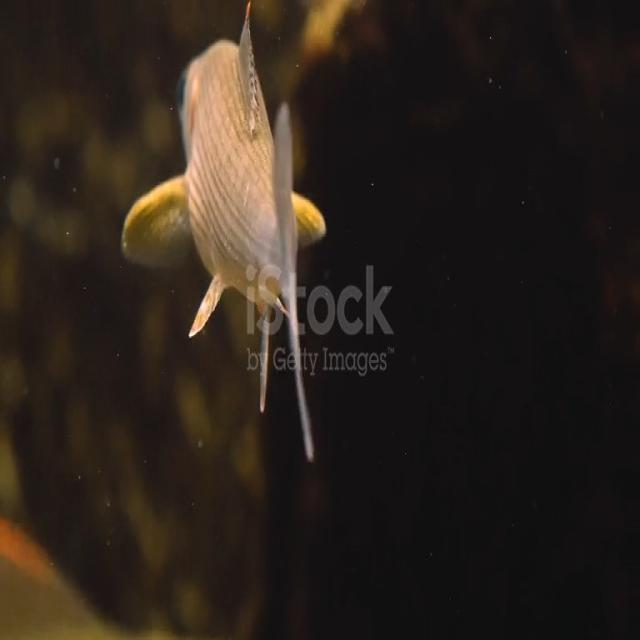fish: (121, 1, 335, 467)
